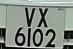0: (32, 28, 44, 49)
1: (26, 27, 34, 49)
2: (43, 27, 59, 49)
6: (14, 27, 28, 48)
V: (23, 7, 37, 28)
X: (38, 8, 52, 30)
